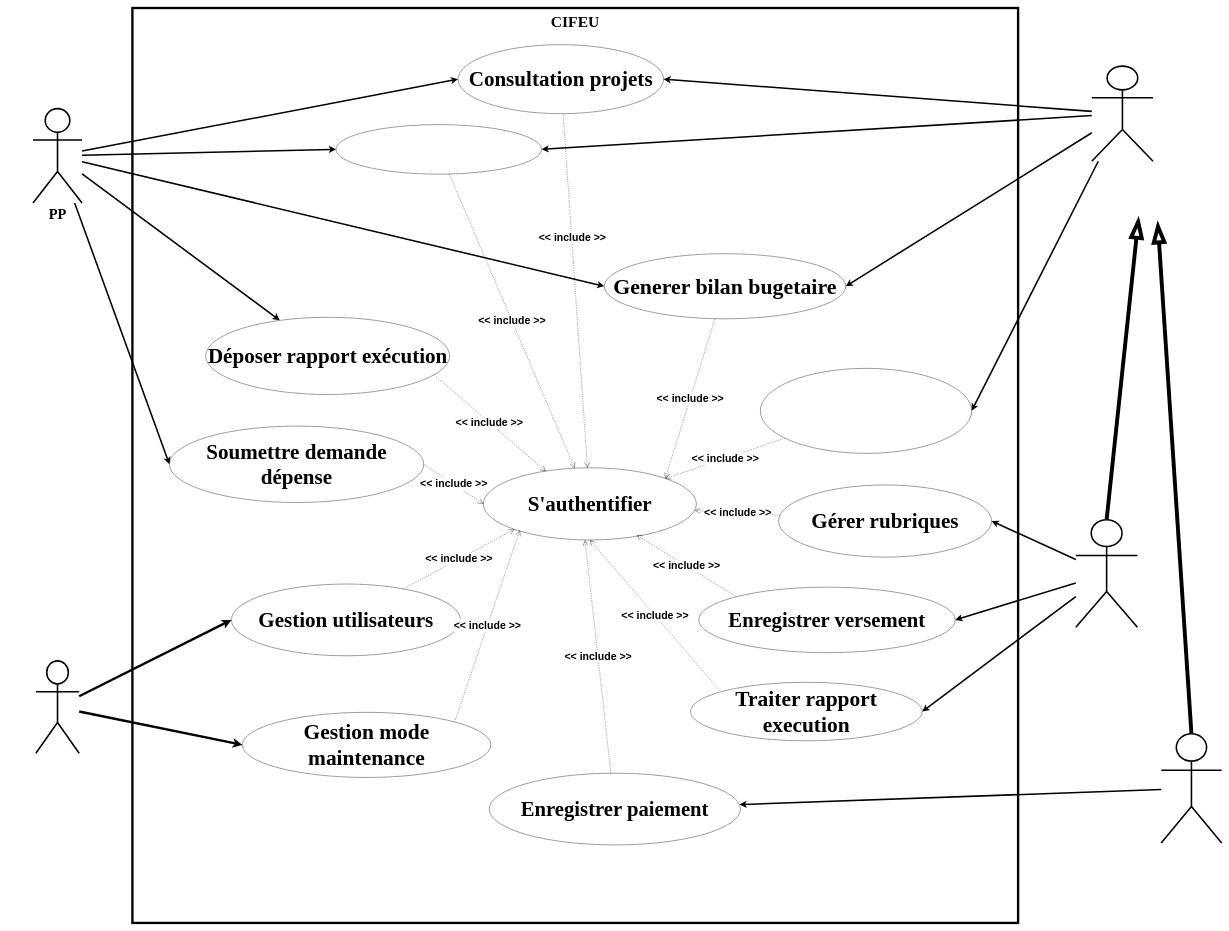
Some shapes in this 1229 by 931 pixel diagram are drawn without their labels. Each missing label, with the box of its shape:
AC: (1160, 733, 1222, 844)
Administrateur: (35, 660, 80, 754)
Agent Financier: (1091, 65, 1154, 162)
Consultion conventions: (336, 124, 542, 174)
DAF: (1075, 519, 1138, 628)
Traiter demande dépense: (760, 368, 972, 453)
